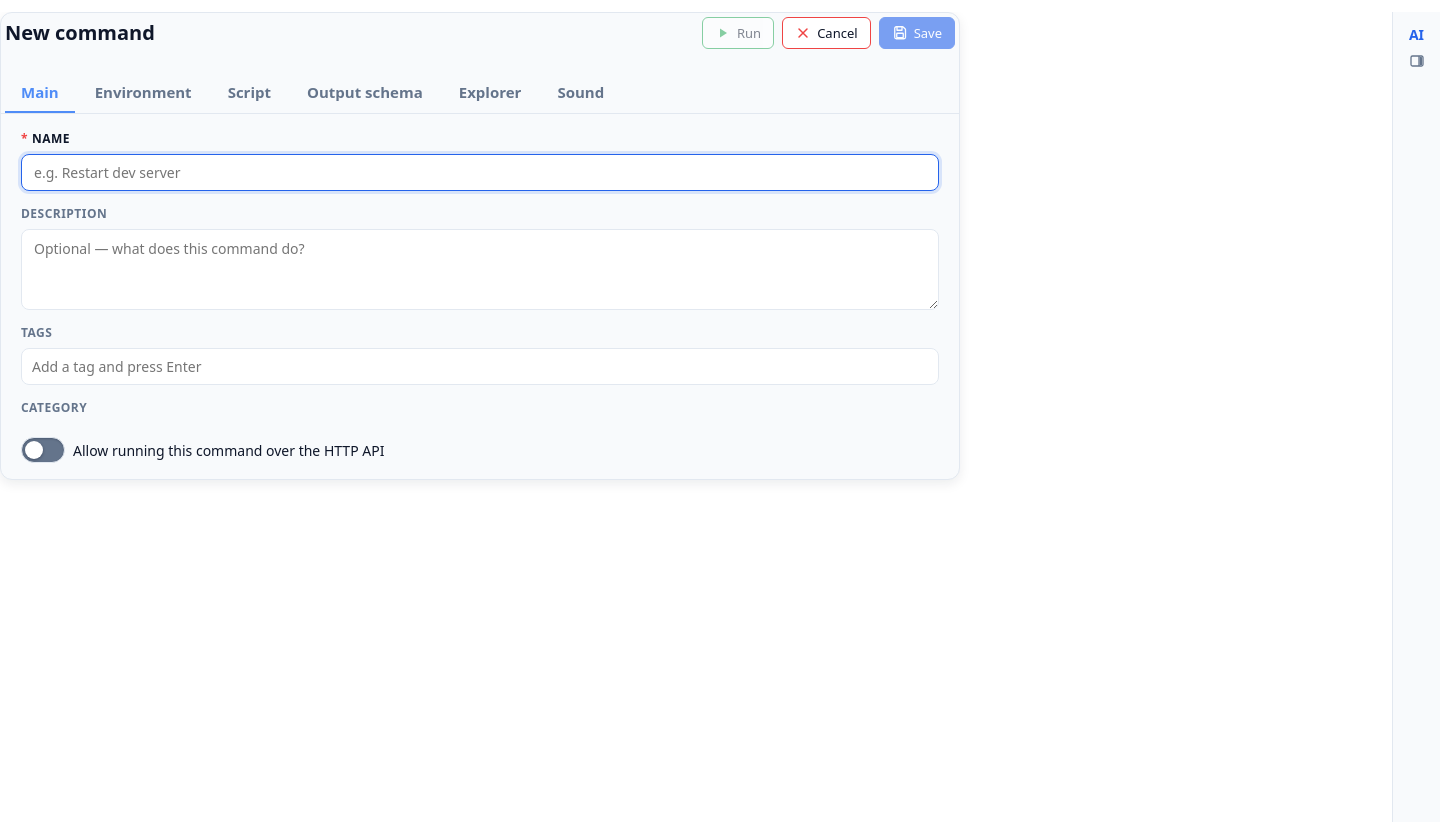
Test: CommandForm — Variables section › does NOT show the invalid-name error until the user touches the name field
The width and height of the screenshot is (1452, 822).
Type "Test cmd" into the field with placeholder "e.g. Restart dev server" at (480, 172), box left=21, top=154, right=939, bottom=191
Click the tab "Script" at (249, 93), box left=212, top=73, right=287, bottom=113
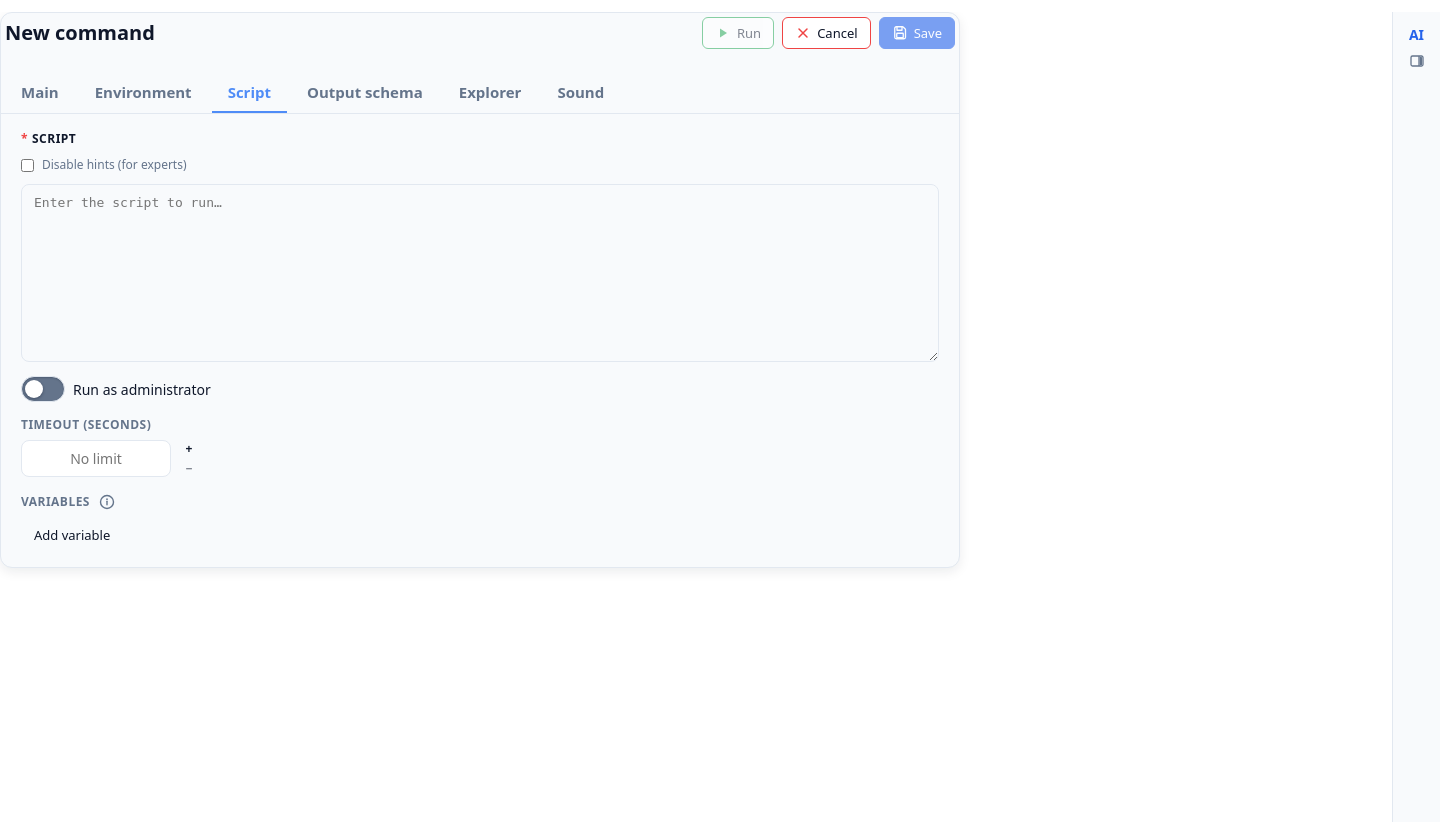
Type "echo hi" into the text box with placeholder "Enter the script to run…" at (480, 273), box left=21, top=184, right=939, bottom=362
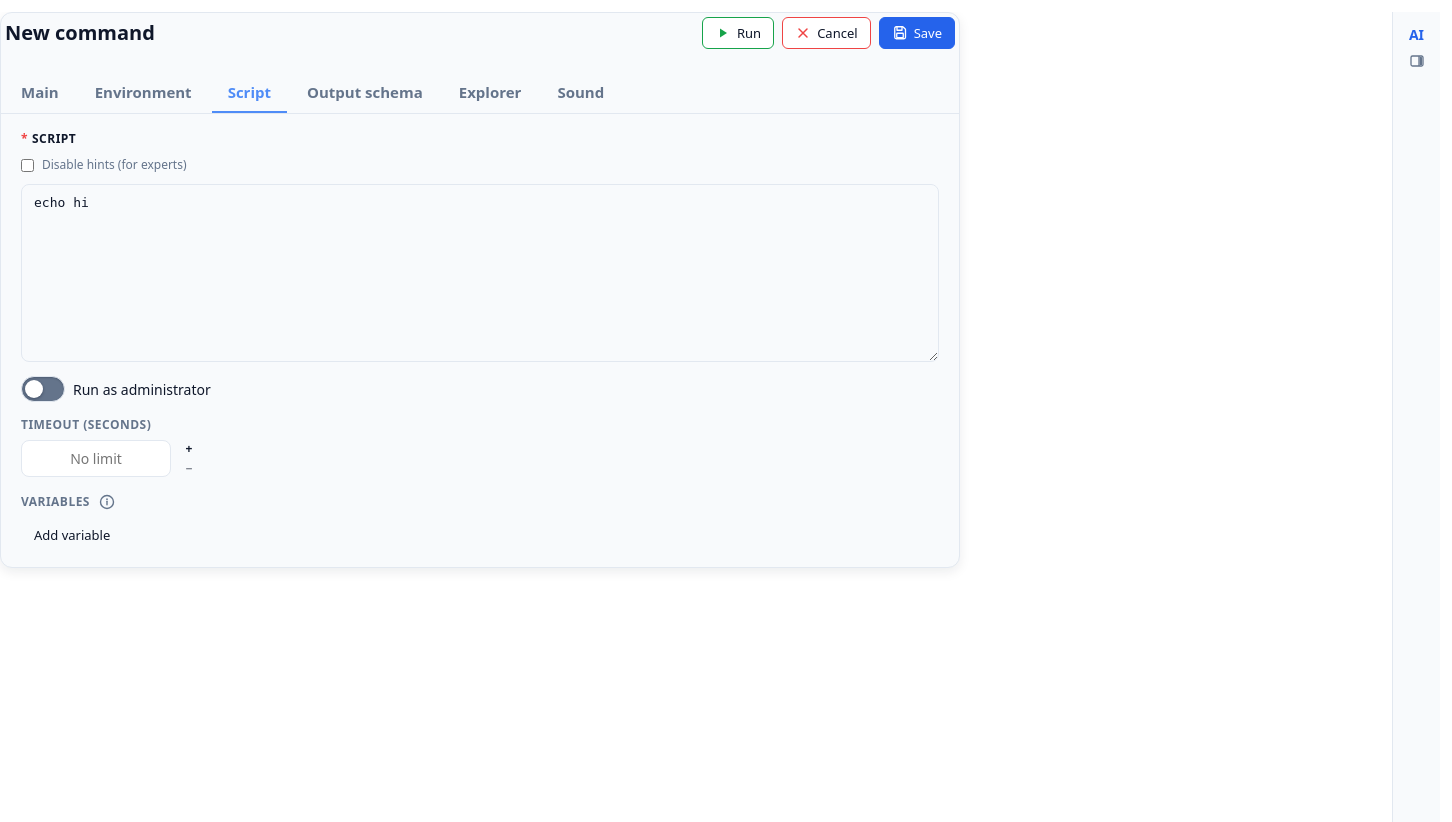
Click the tab "Main" at (40, 93), box left=5, top=73, right=75, bottom=113
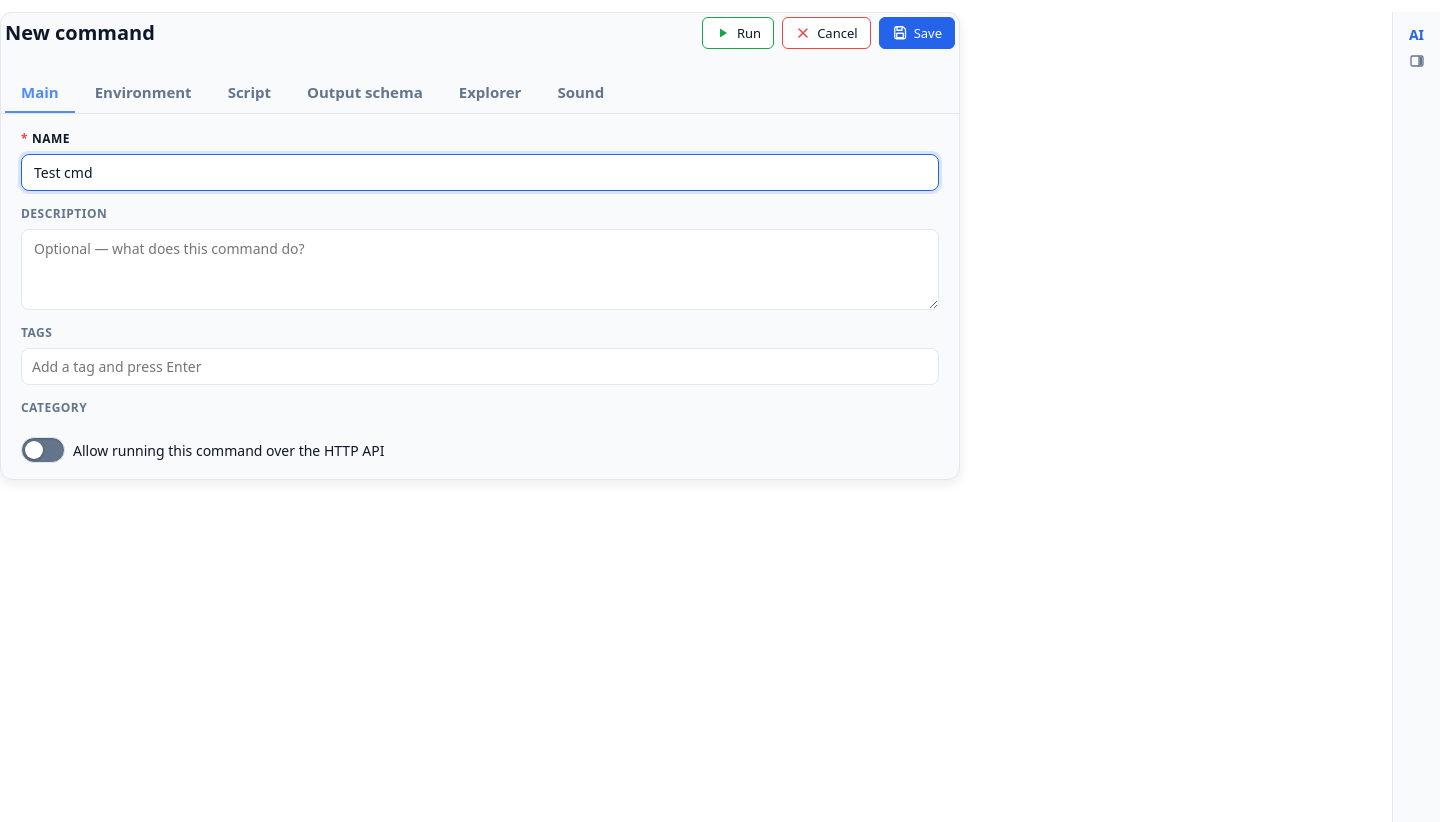
Click the tab "Script" at (249, 93), box left=212, top=73, right=287, bottom=113
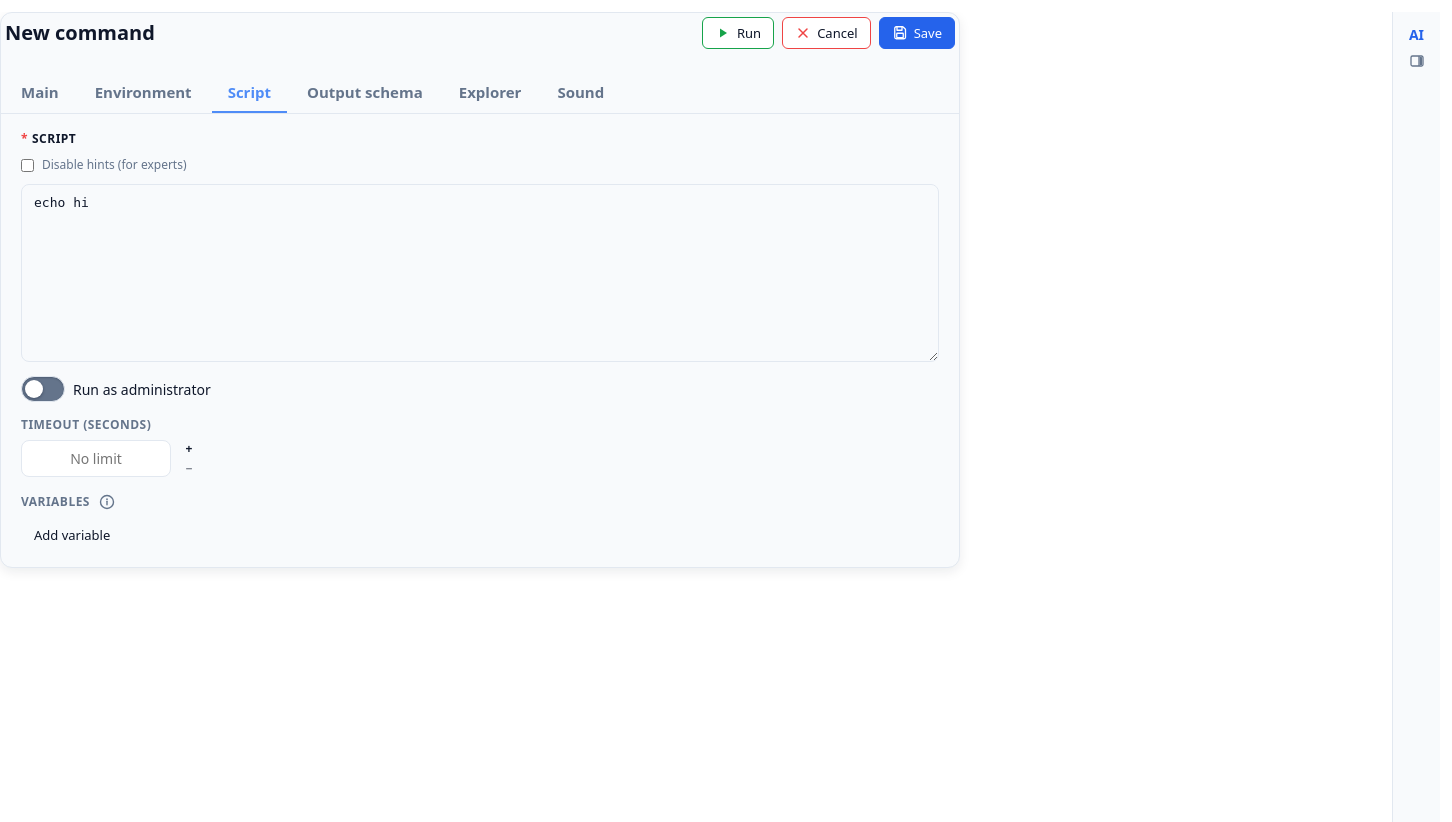
Click the button "Add variable" at (72, 535), box left=21, top=519, right=939, bottom=551
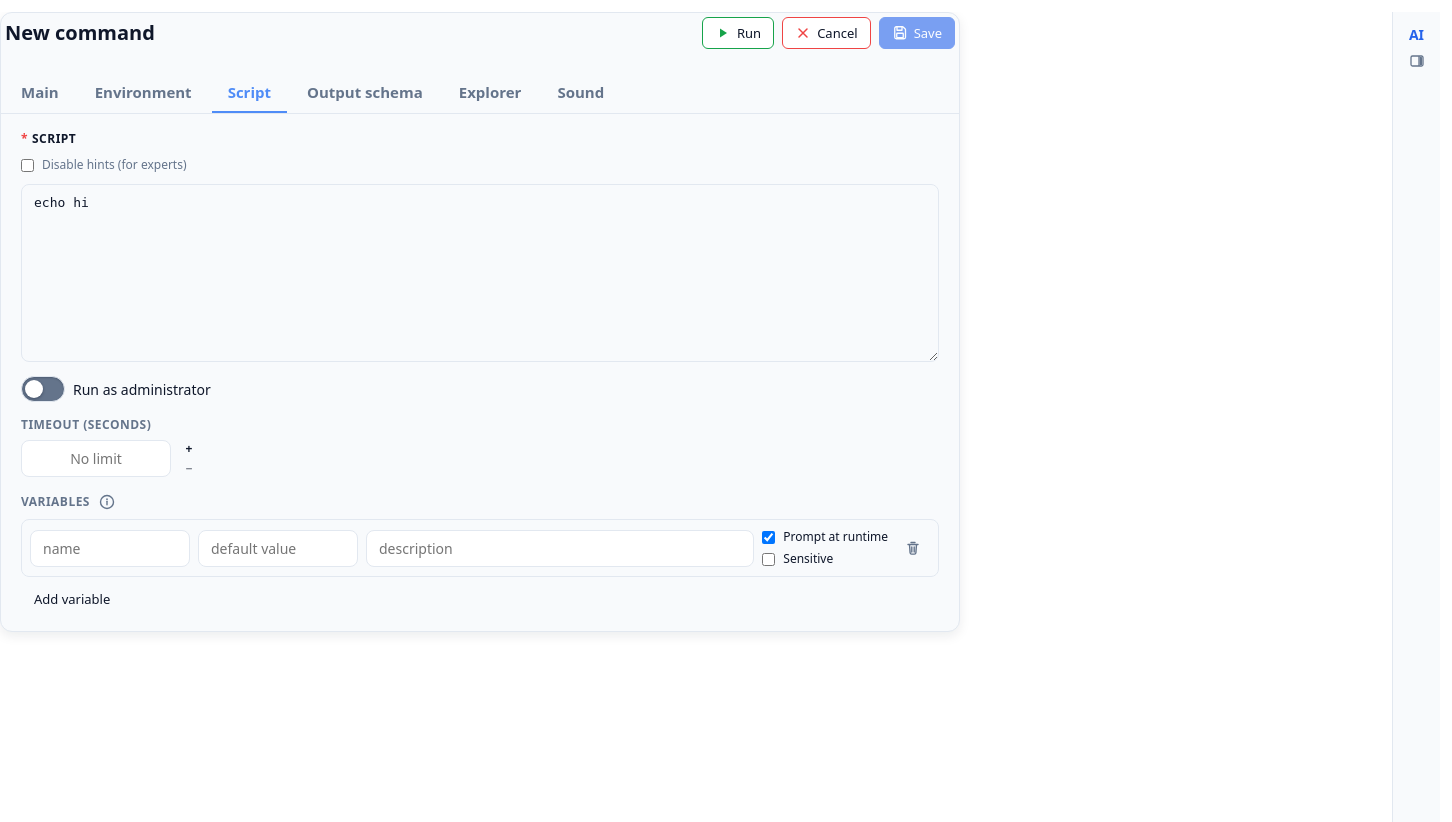
Expected: the text "Use letters, digits, and underscores; must not start with a digit." is not shown
Expected: the list item "Prompt at runtime Sensitive" is shown, left=21, top=519, right=939, bottom=577
Leave the field with placeholder "name", box left=30, top=530, right=190, bottom=566
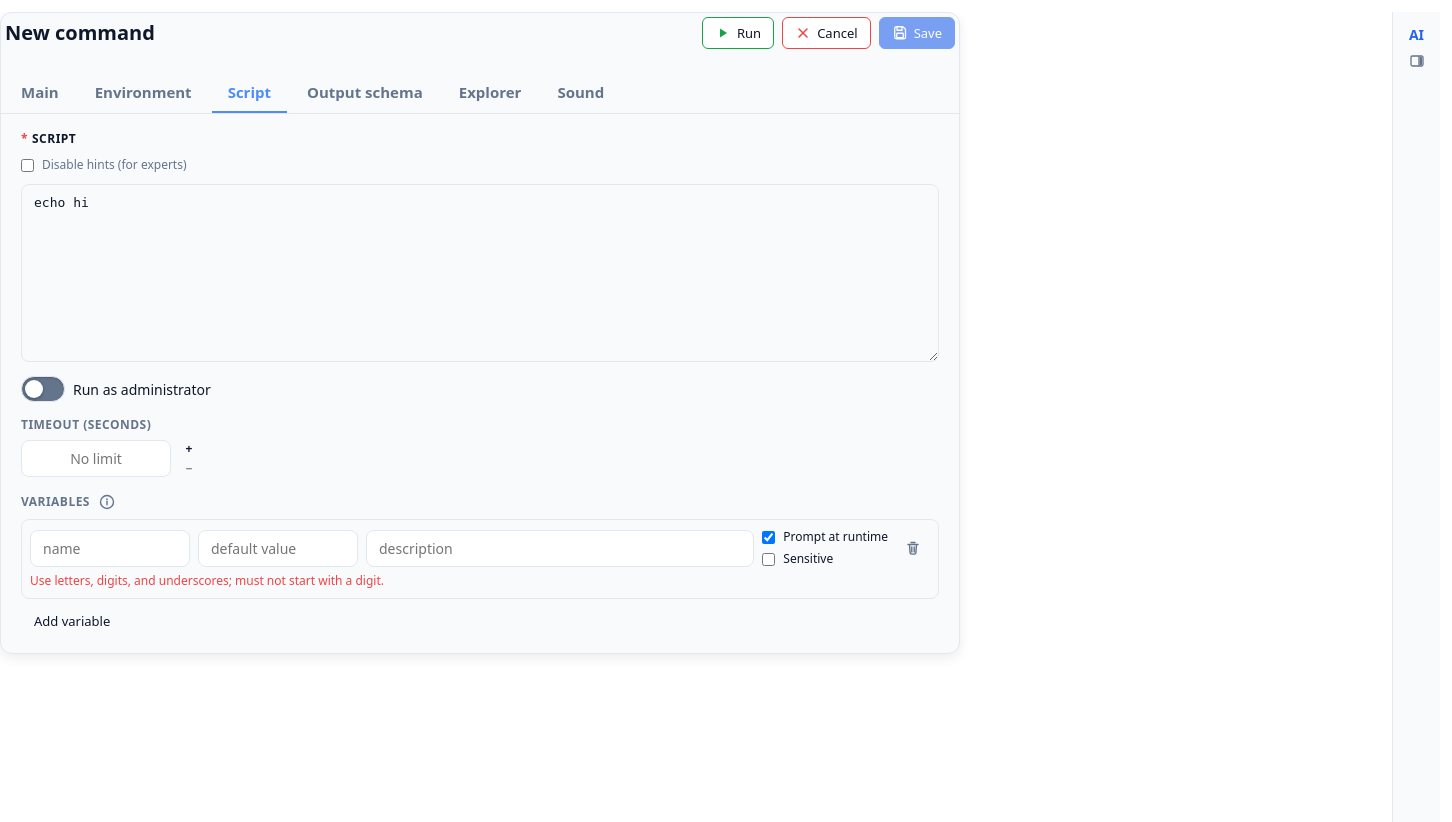
Expected: the text "Use letters, digits, and underscores; must not start with a digit." is shown, left=30, top=572, right=384, bottom=589
